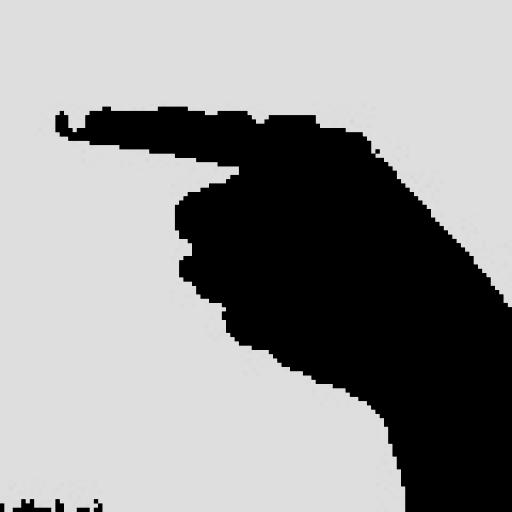index_left: (54, 103, 512, 346)
